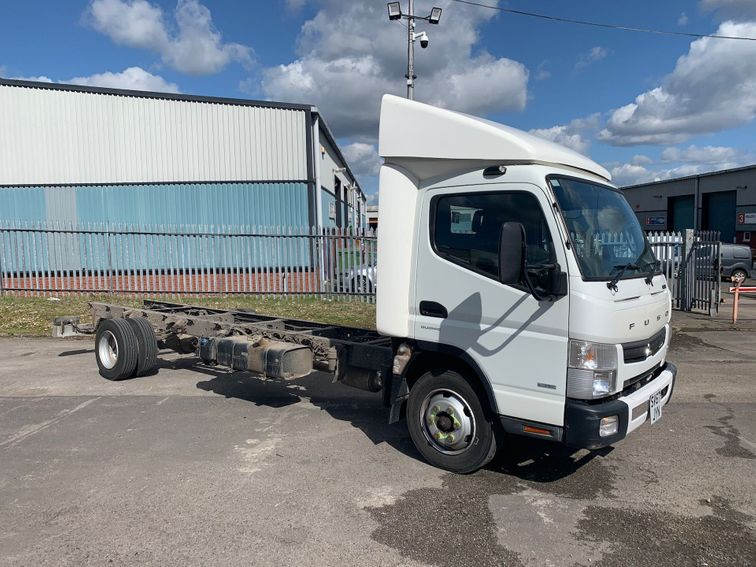Semi: (45, 92, 677, 474)
